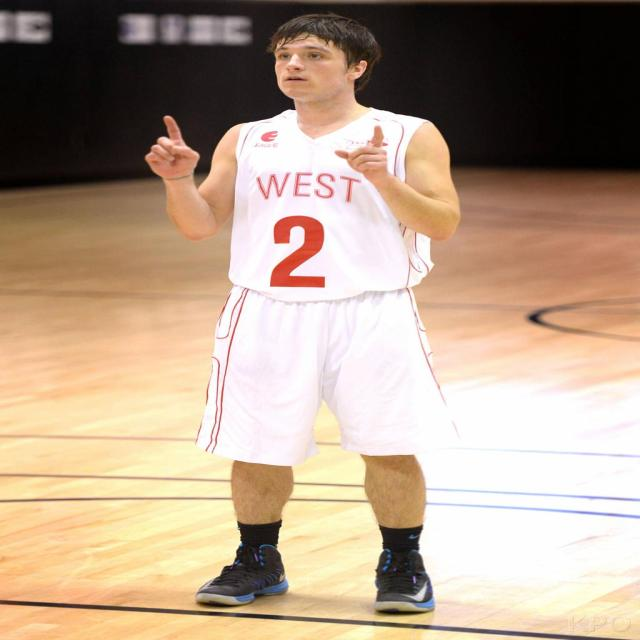Face: (262, 32, 354, 101)
